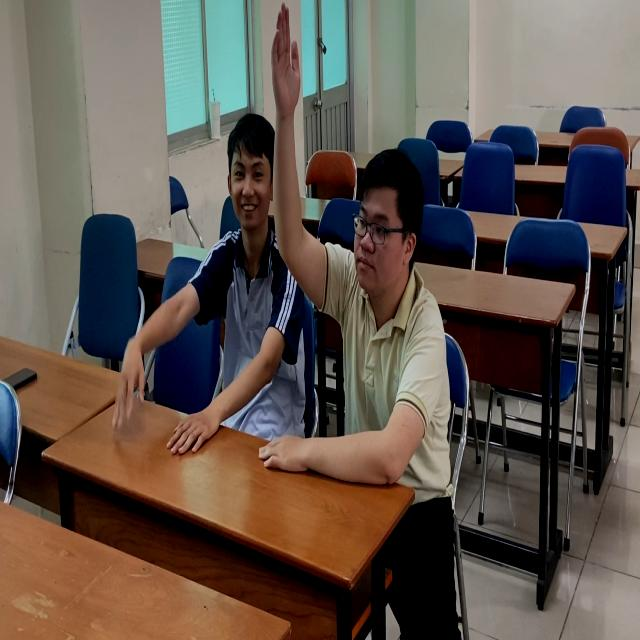raise_hand: (262, 2, 451, 488)
